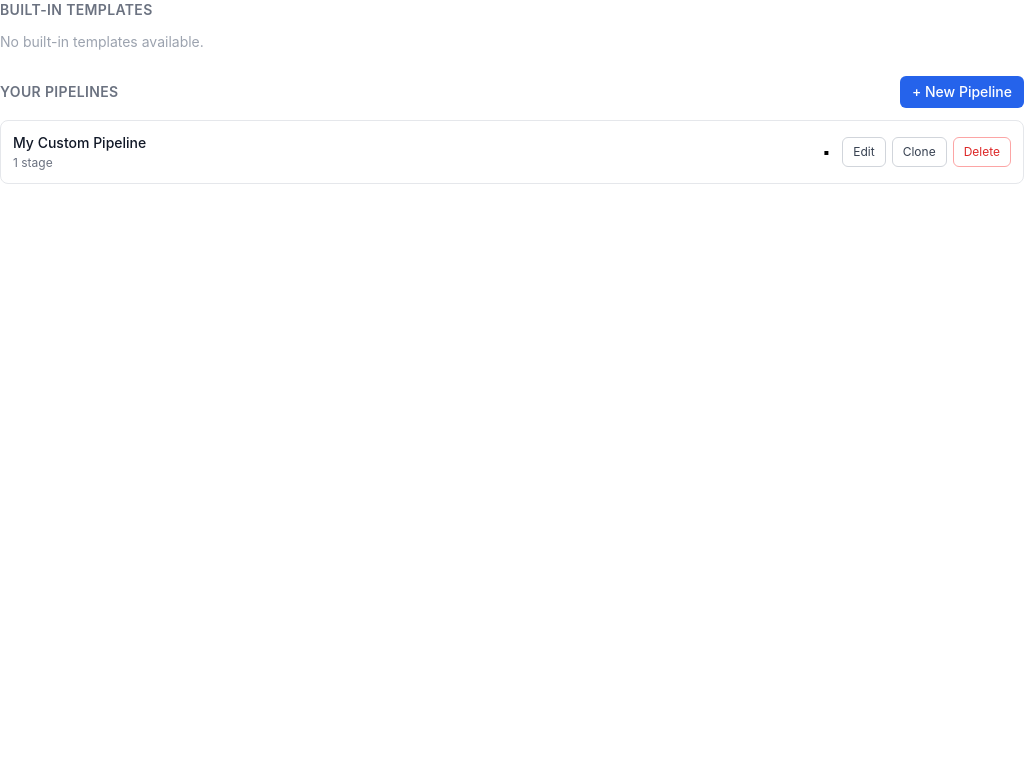
it: PipelineLibrarySection — delete flow › shows plural reference warning when 2+ projects use the pipeline
The width and height of the screenshot is (1024, 768).
What coordinates should you click on to do the following:
click the button "Delete"
I would click on:
 (982, 152)
Its box is [953,137,1011,167].
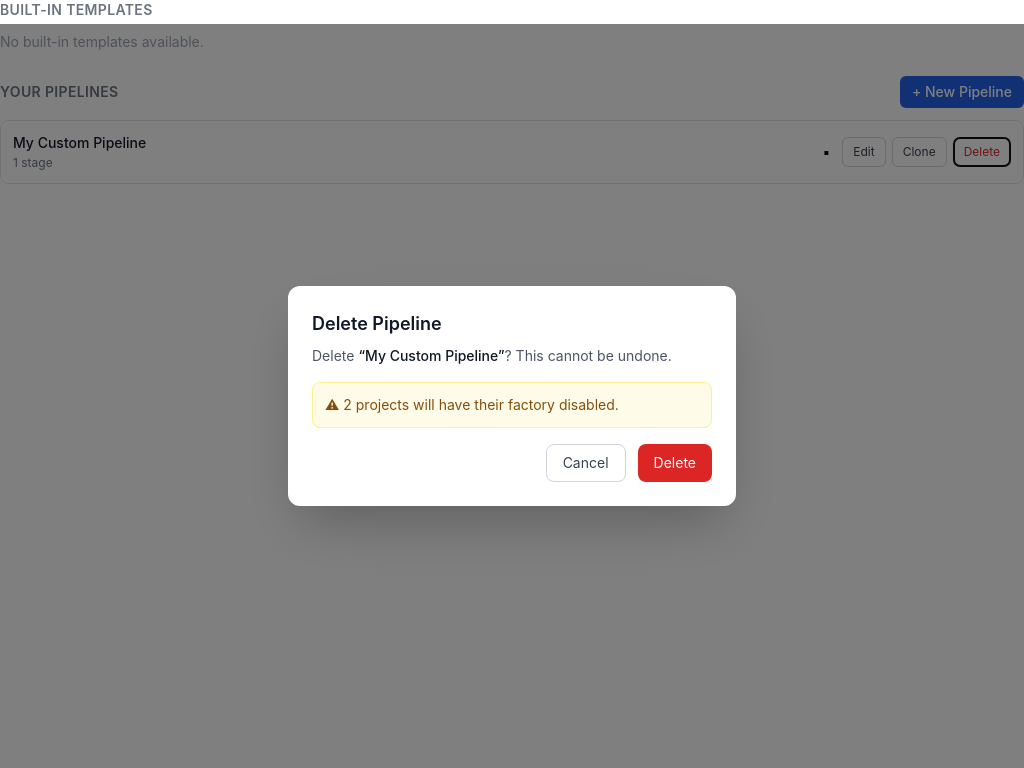
Check: the text "⚠ 2 projects will have their factory disabled." is shown, box [312,382,712,428]
